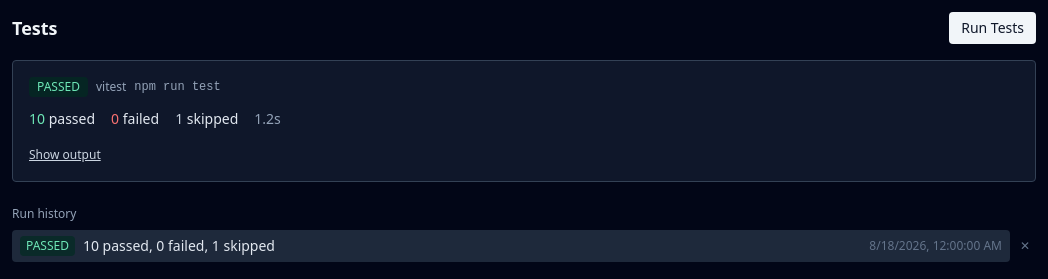
Test: TestsPage › deleting run history — user request: delete one run, and Pro-only delete all › Cancel on a single-run delete leaves the run untouched
The width and height of the screenshot is (1048, 279).
expect the heading "Run history" is shown: met, box 12,205 -> 76,222
Click the button named "Delete run from".
click(1025, 246)  # box 1014,234 -> 1036,258
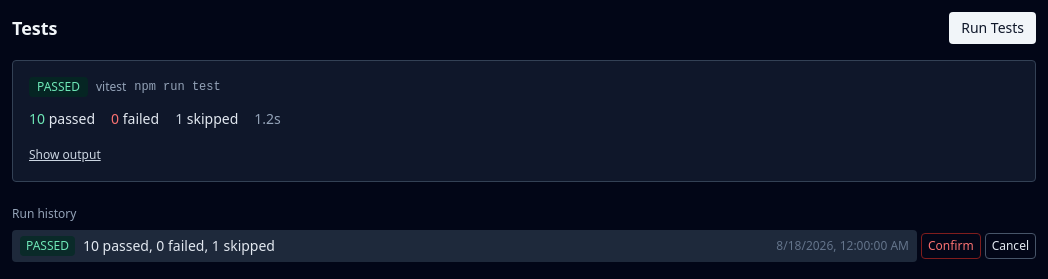
Click the button "Cancel".
click(1010, 246)  # box 985,233 -> 1036,259
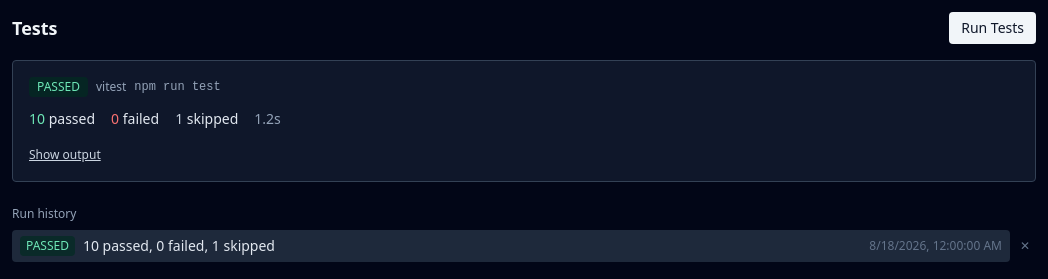
expect the button "Confirm" is gone: met
